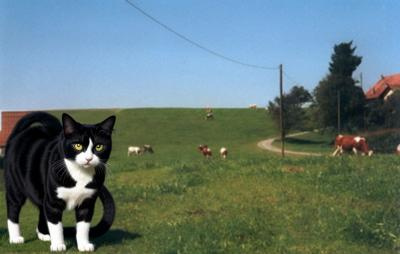cat: (1, 111, 115, 251)
cow: (332, 133, 375, 156)
